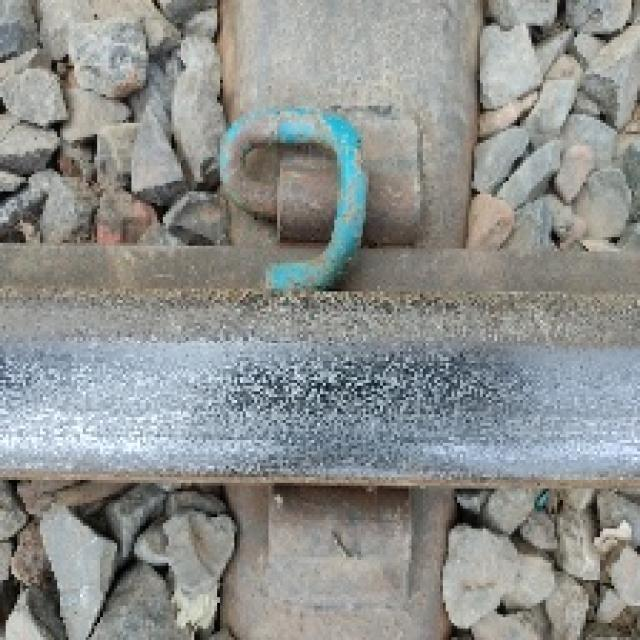Good Fasteners: (214, 94, 435, 296)
Missing Fastener: (238, 482, 455, 637)
